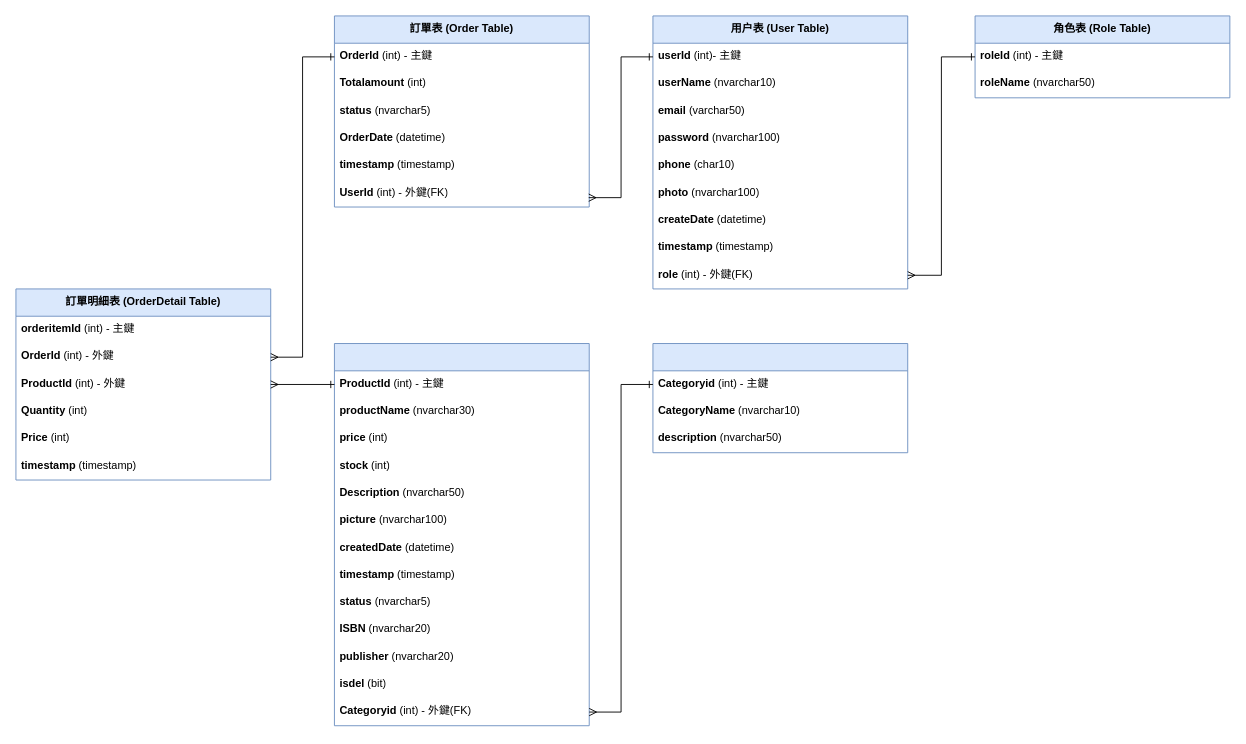
This 1246x744 diagram has some shape labels left out. The box of each missing label's shape, as (x1, y1, x2, y2) in pixels:
分類表 (Category Table): (652, 343, 908, 453)
產品表 (Product Table): (334, 343, 589, 726)
